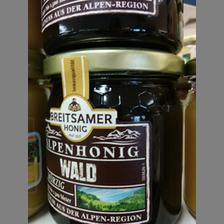Honig: (40, 48, 184, 224)
